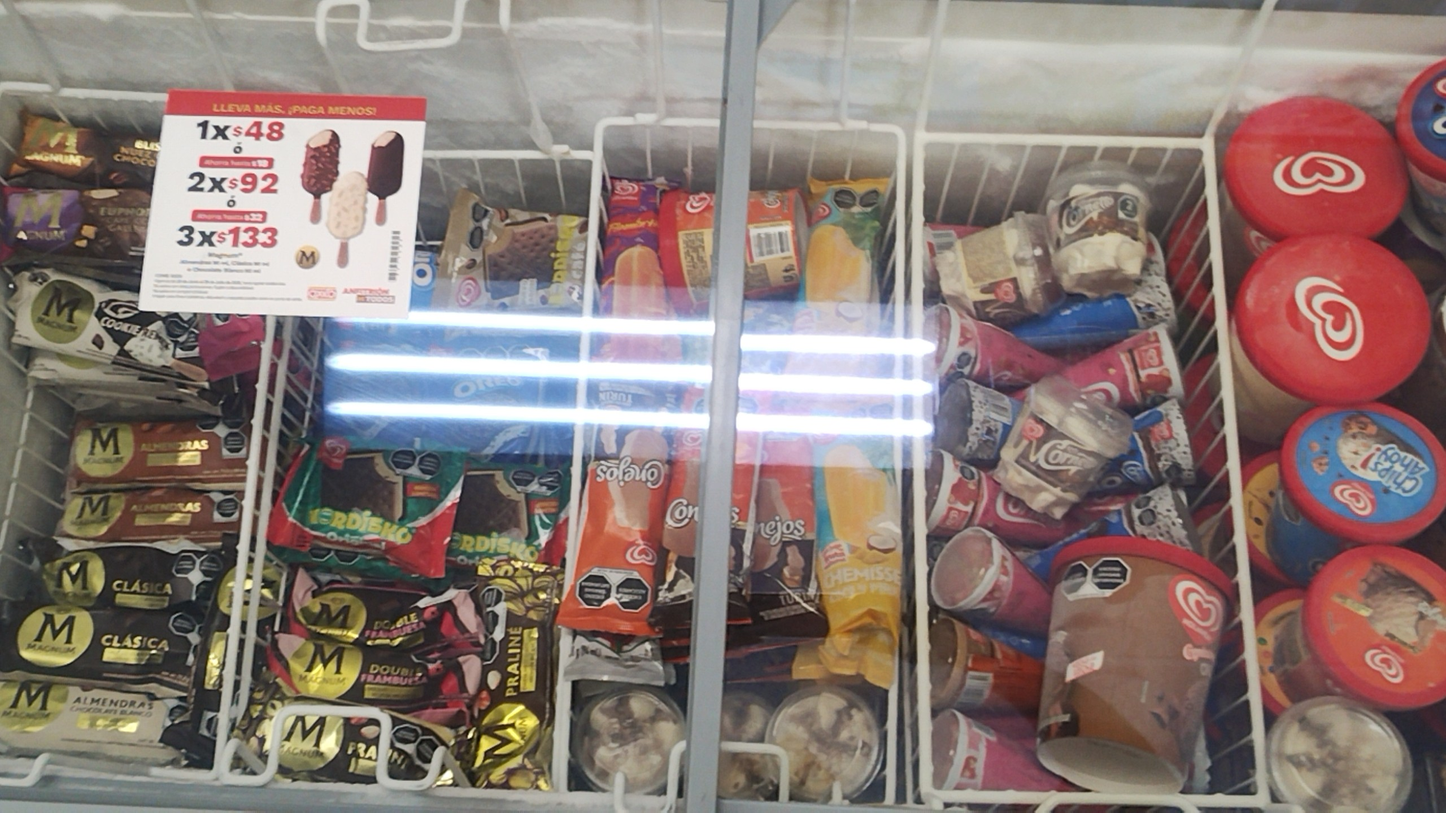rejilla: (1202, 151, 1271, 801), (212, 315, 275, 775), (236, 317, 293, 722), (562, 122, 606, 593), (915, 132, 936, 801), (930, 790, 1270, 807), (928, 131, 1214, 150), (599, 117, 906, 134), (893, 135, 907, 497), (1, 80, 168, 103), (551, 682, 572, 791), (425, 147, 595, 160), (885, 674, 898, 803), (560, 627, 574, 680)
